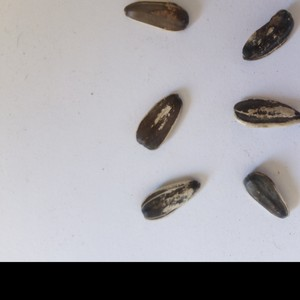girasol: (238, 7, 294, 63), (135, 90, 183, 153), (139, 176, 202, 224), (241, 168, 290, 225), (229, 94, 300, 130), (123, 1, 189, 34)
